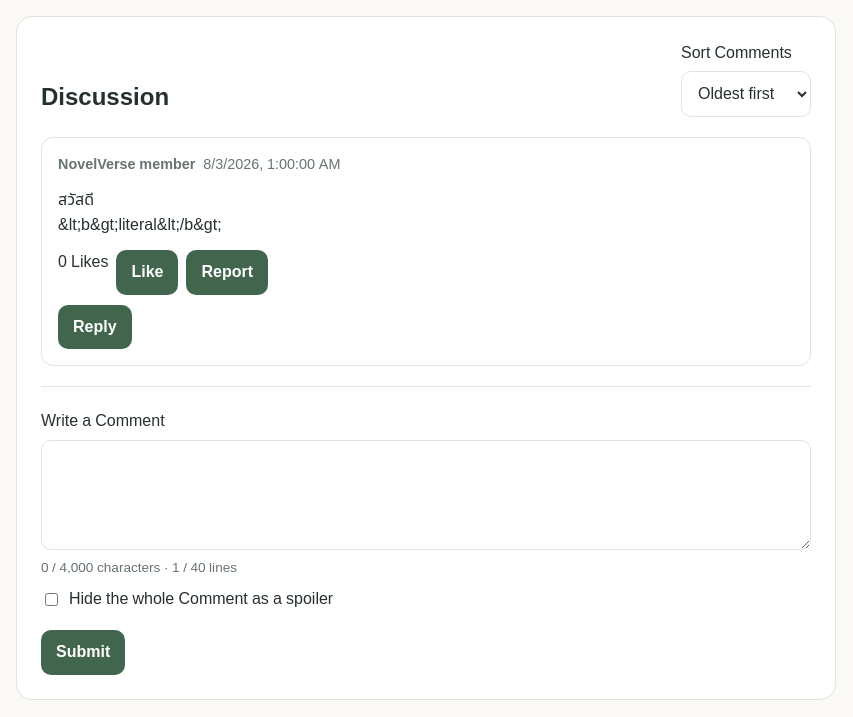
Test: session request isolation › uses server Like capabilities and reconciles count only after confirmation
Click the button with aria-label "Like Comment" at (147, 272), box [116,250,178,294]
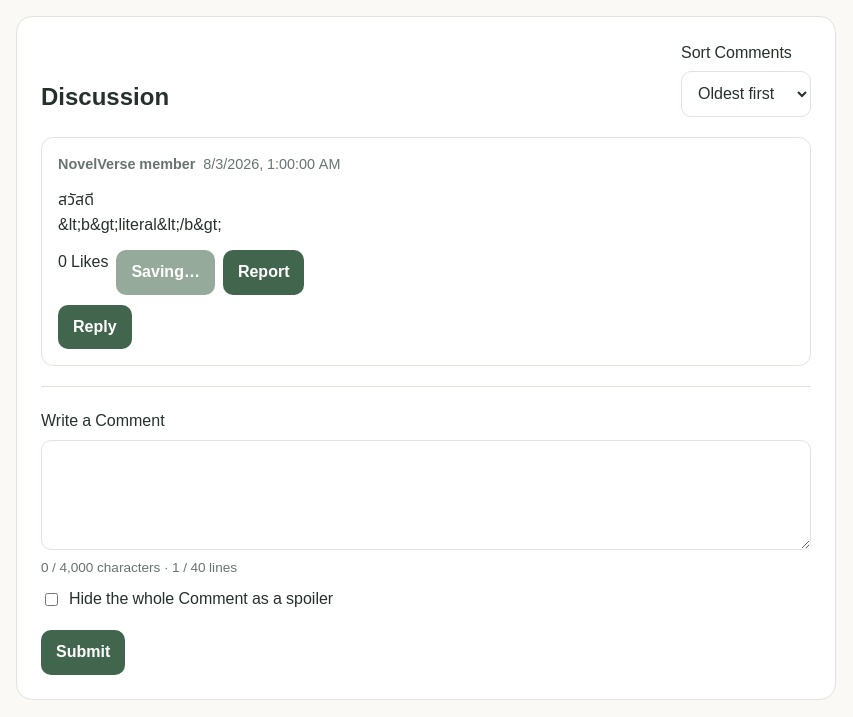
Click the button with aria-label "Like Comment" at (166, 272), box [116,250,215,294]
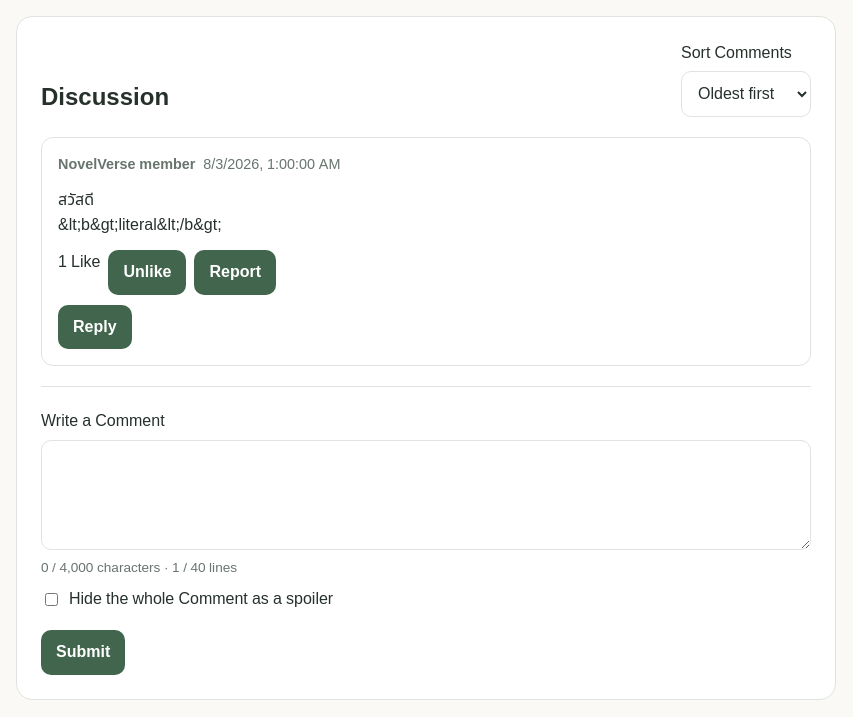
Expected: the text named "1 Likes" is shown, [58,250,100,274]
